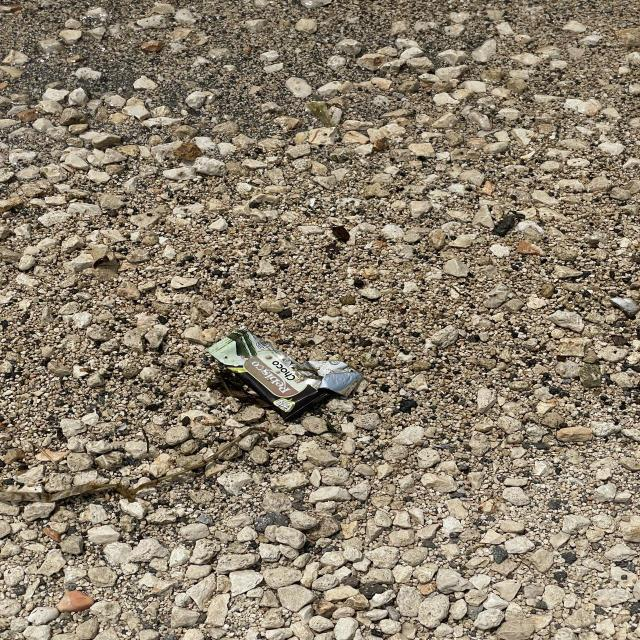plastic_waste: (206, 326, 363, 422)
